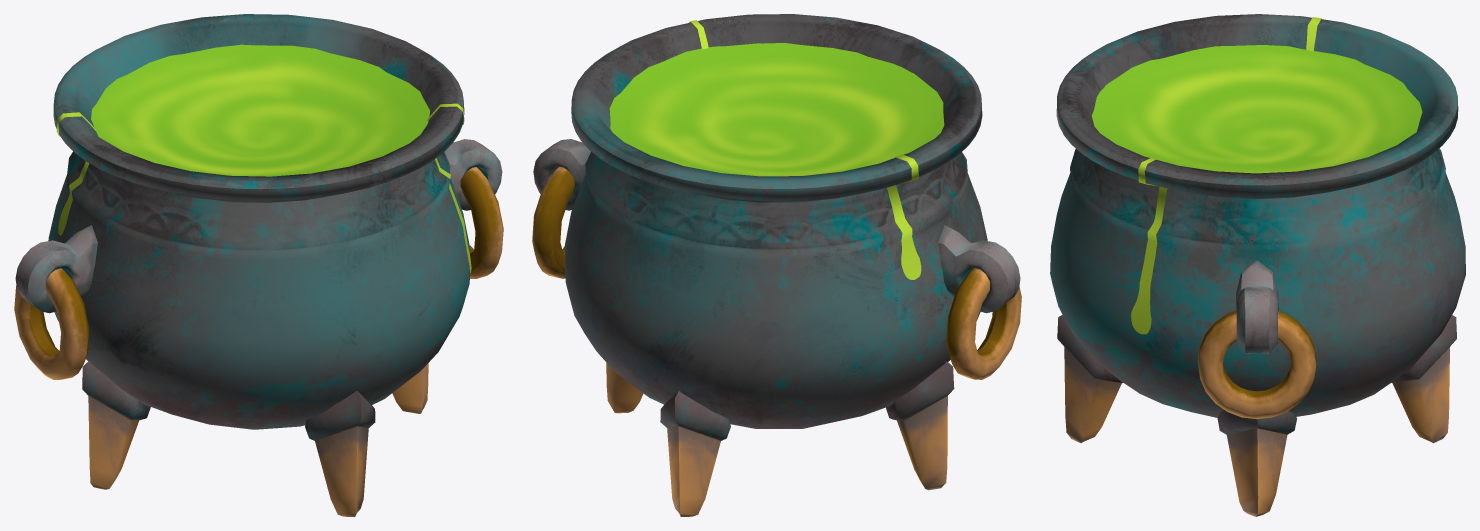
File: SM_Potion_Props_Pot_01_B.fbx
3 views of the same model, side by side, from view 1: azimuth 30°, elevation 25°; view 2: azimuth 150°, elevation 25°; view 3: azimuth 270°, elevation 25° (orthographic). The views are drawn at different scales.
Visible parts, largest first — view 1: SM_Potion_Props_Pot_01_B_LOD0; view 2: SM_Potion_Props_Pot_01_B_LOD0; view 3: SM_Potion_Props_Pot_01_B_LOD0.
Boxes of the visible parts, box(x1,y1,x2,y2) form: SM_Potion_Props_Pot_01_B_LOD0: box(14, 14, 503, 516); SM_Potion_Props_Pot_01_B_LOD0: box(532, 14, 1021, 516); SM_Potion_Props_Pot_01_B_LOD0: box(1050, 14, 1465, 516).
Size of what is drawn, in the model's own units: 125 by 88.75 by 97.17.
